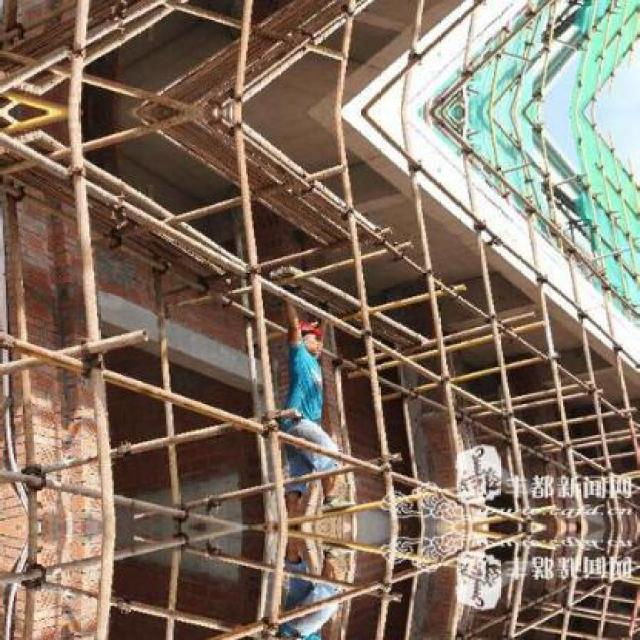helmet: (289, 317, 323, 357)
